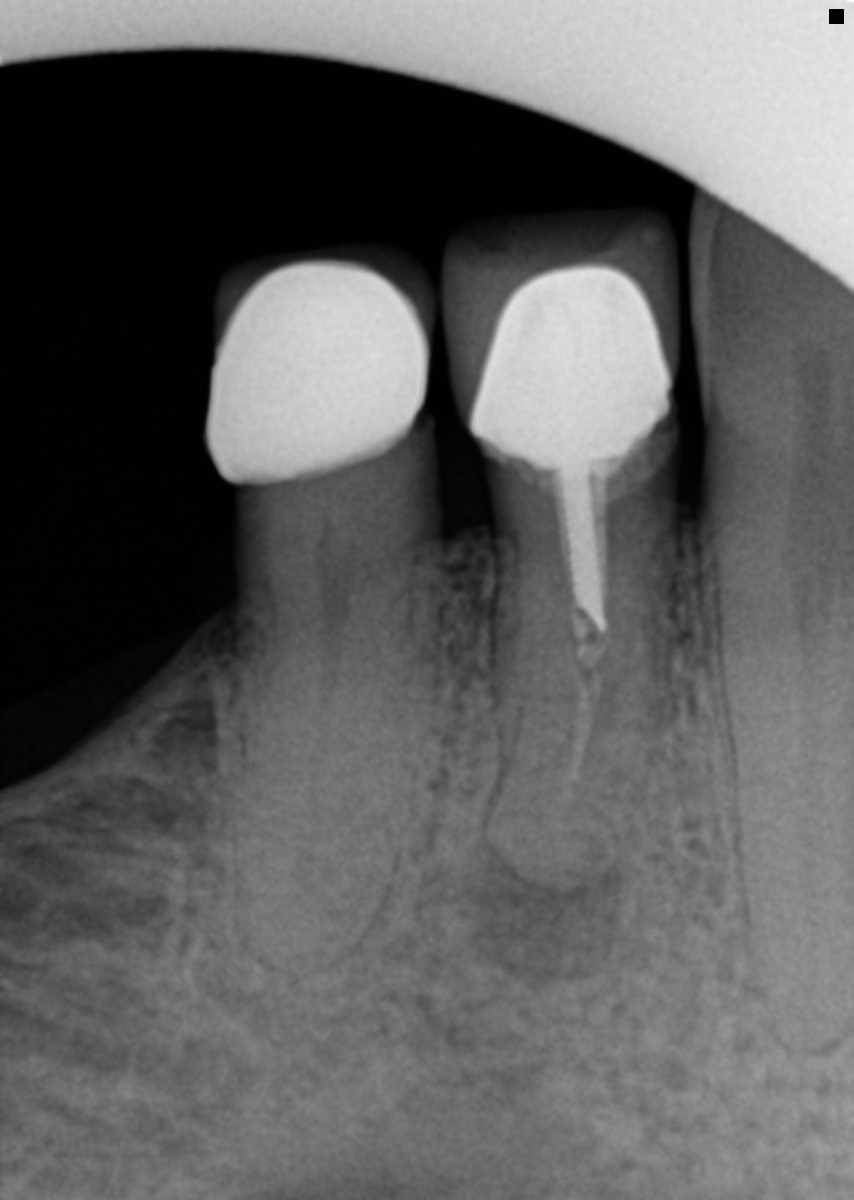Apical Lesion: (470, 836, 619, 985)
Main Canal: (787, 519, 844, 1003), (289, 586, 345, 959)
Main Root: (229, 544, 434, 976), (709, 513, 854, 1064), (489, 517, 686, 883)
Root Canal Filling: (555, 662, 599, 830)
